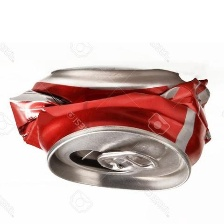can: (4, 60, 217, 196)
